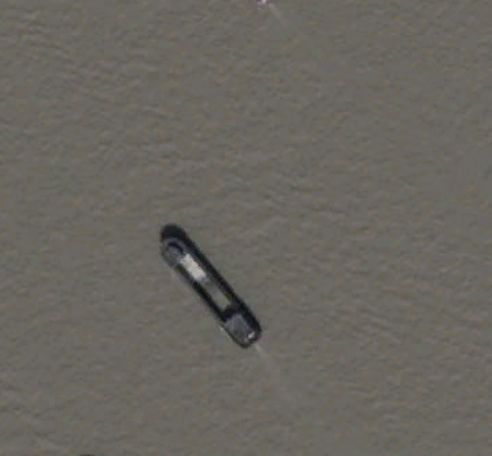boat: (157, 228, 263, 351)
